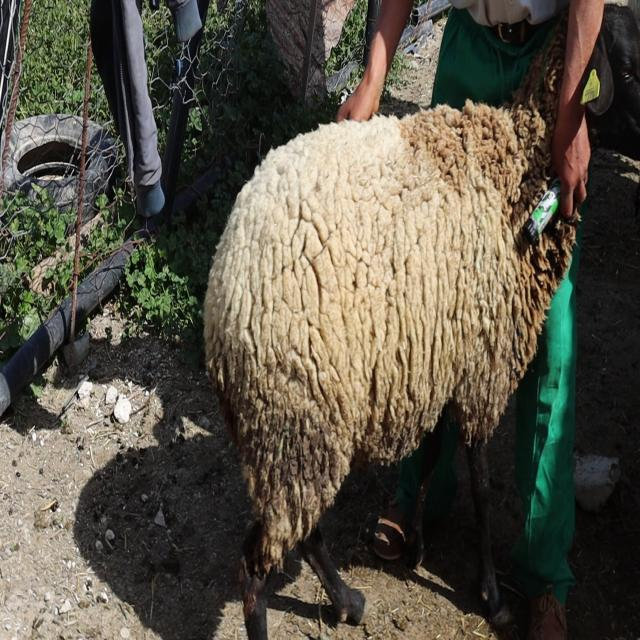Score_5: (204, 16, 579, 639)
